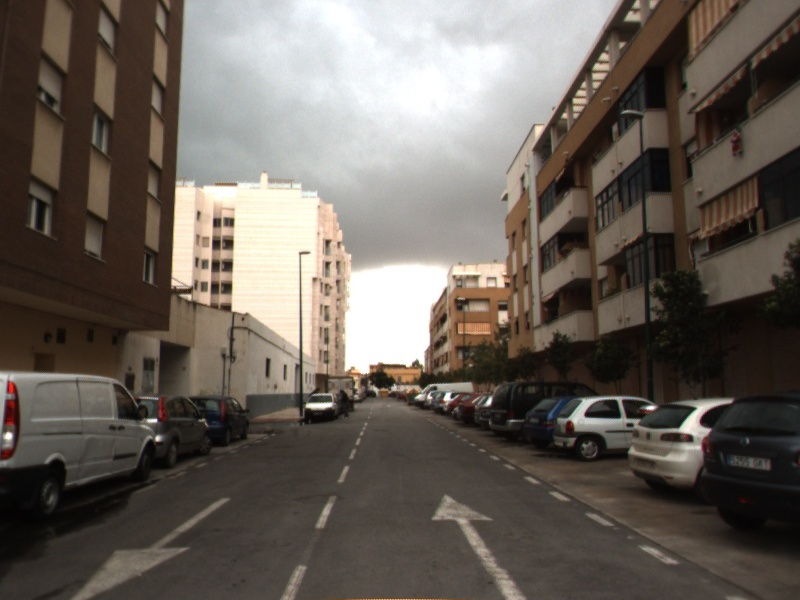STRAIGHT: (429, 491, 527, 600)
